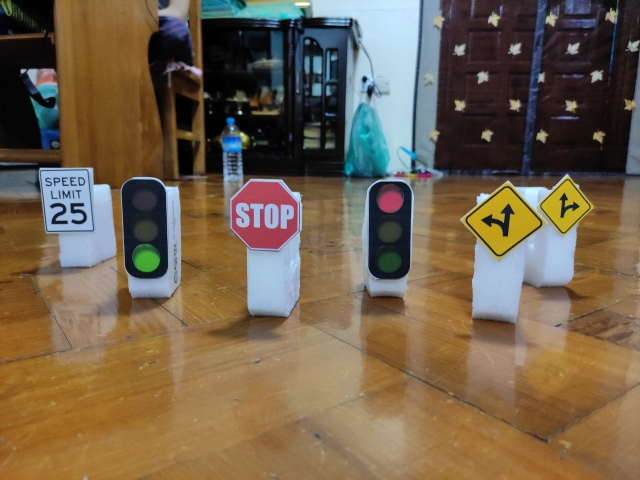Green Traffic Light: (121, 179, 167, 277)
Red Traffic Light: (368, 179, 411, 279)
Speed Limit 25: (37, 167, 94, 232)
Stop Sign: (229, 179, 302, 250)
Straight Or Left Sign: (463, 184, 543, 256)
Straight Or Right Sign: (541, 178, 592, 233)
